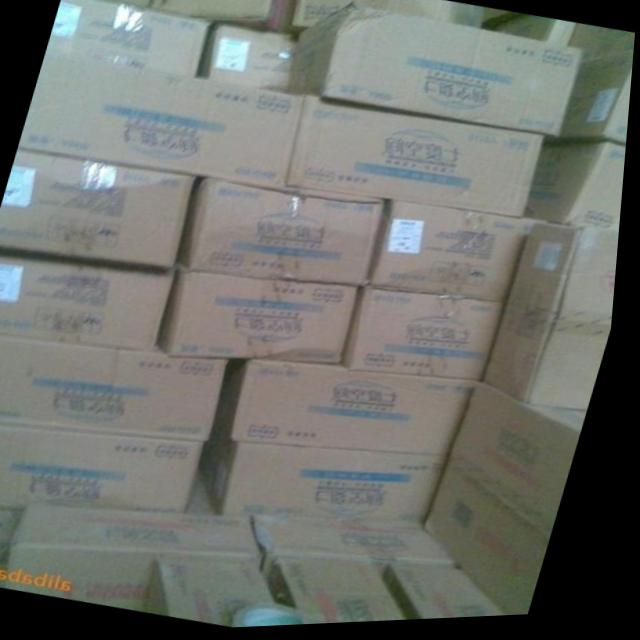box: (286, 4, 587, 148), (21, 52, 306, 189), (13, 474, 273, 613), (289, 96, 547, 222), (0, 335, 253, 444), (216, 361, 487, 461), (489, 224, 623, 416), (0, 149, 205, 272), (206, 435, 455, 532), (181, 177, 390, 289), (456, 385, 593, 543), (431, 460, 559, 620), (0, 420, 214, 515), (162, 268, 366, 366), (0, 250, 181, 353), (371, 203, 538, 306), (346, 289, 513, 384), (47, 0, 213, 78), (260, 519, 470, 579), (275, 559, 419, 627), (156, 556, 290, 628), (527, 147, 629, 235), (548, 55, 635, 152), (392, 566, 518, 624), (198, 24, 297, 94), (287, 0, 485, 34), (104, 0, 294, 34), (495, 20, 576, 52), (0, 509, 30, 587), (571, 29, 636, 64), (480, 11, 530, 36)
